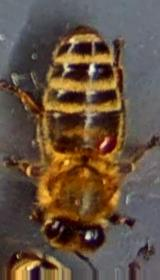varroa_mite: (91, 128, 117, 160)
